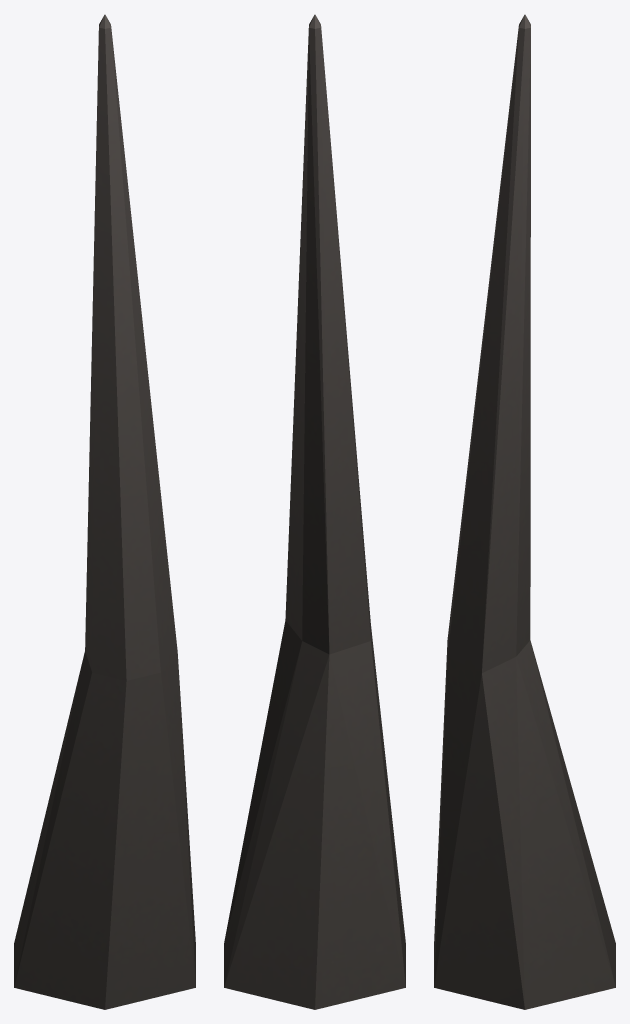
The model's file is Stal_9D.fbx.
3 views of the same model, side by side, from view 1: azimuth 30°, elevation 25°; view 2: azimuth 150°, elevation 25°; view 3: azimuth 270°, elevation 25° (orthographic).
Parts seen in each view (by area): view 1: pCone17; view 2: pCone17; view 3: pCone17.
Part boxes in pixels (x1,y1,x2,y2): pCone17: (14, 14, 195, 1009); pCone17: (224, 14, 405, 1009); pCone17: (434, 14, 615, 1009).
Bounding box in the file's own units: 93 × 465 × 80.54.
Materials: 1 (1 with a texture image).
